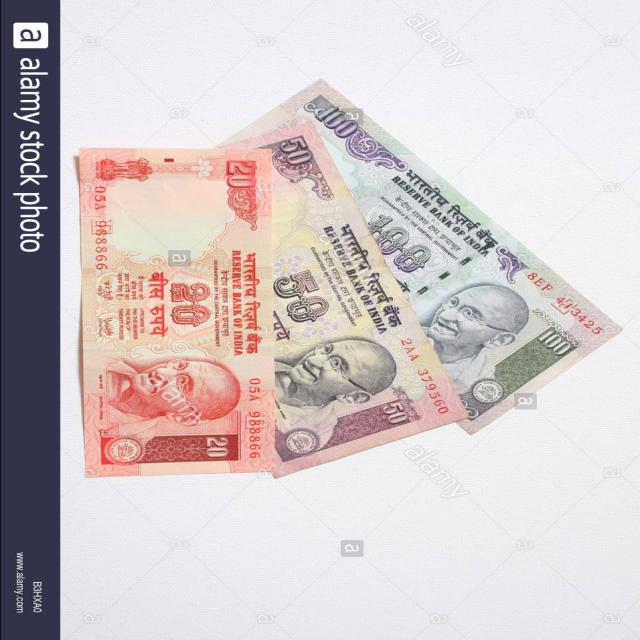20IndianRupees: (81, 153, 278, 468)
